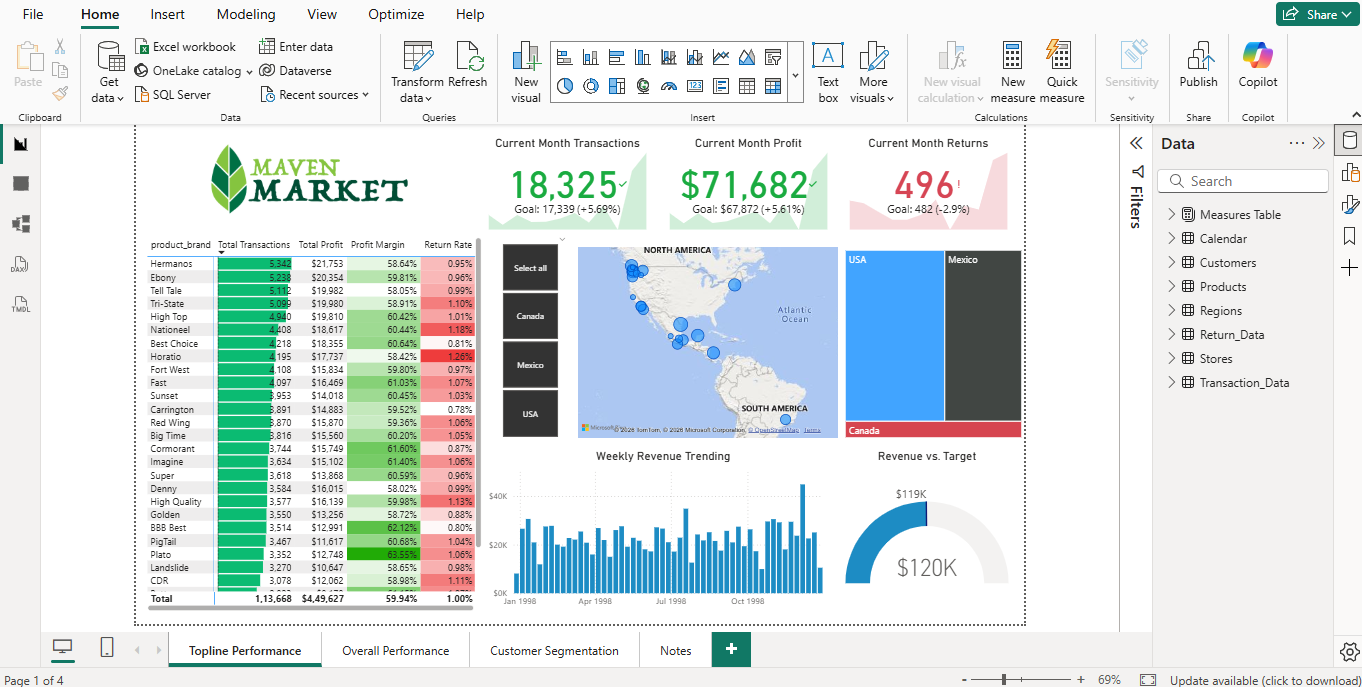

What the dashboard file says about the page in this screenshot:
{"tool":"powerbi","page":{"name":"Topline Performance","canvas":[1280,720],"ordinal":0},"visuals":[{"type":"image","box":[22.5,17.5,450,122.5],"z":0},{"type":"pivotTable","fields":{"Rows":["Products.product_brand"],"Values":["Measures Table.Total Transactions","Measures Table.Total Profit","Measures Table.Profit Margin %","Measures Table.Return Rate"]},"box":[11.6,158,491.3,547.8],"z":1000},{"type":"kpi","title":"Current Month Transactions","fields":{"Indicator":["Measures Table.Total Transactions"],"TrendLine":["Calendar.Start of Month"],"Goal":["Measures Table.Last Month Transactions"]},"box":[502.5,17.5,237.5,140],"z":2000},{"type":"kpi","title":"Current Month Returns","fields":{"TrendLine":["Calendar.Start of Month"],"Indicator":["Measures Table.Total Returns"],"Goal":["Measures Table.Last Month Returns"]},"box":[1022.5,17.5,237.5,140],"z":3000},{"type":"kpi","title":"Current Month Profit","fields":{"TrendLine":["Calendar.Start of Month"],"Indicator":["Measures Table.Total Profit"],"Goal":["Measures Table.Last Month Profit"]},"box":[763.8,17.5,237.5,140],"z":4000},{"type":"map","fields":{"Category":["Stores.store_city"],"Size":["Measures Table.Total Transactions"]},"box":[631.9,172.5,384.1,284.1],"z":5000},{"type":"slicer","fields":{"Values":["Stores.store_country"]},"box":[502.9,158,129,298.6],"z":6000},{"type":"treemap","fields":{"Group":["Stores.store_country","Stores.store_state","Stores.store_city"],"Values":["Measures Table.Total Transactions"]},"box":[1015.9,176.8,263.8,279.7],"z":7000},{"type":"columnChart","title":"Weekly Revenue Trending","fields":{"Y":["Measures Table.Total Revenue"],"Category":["Calendar.Start of Week"]},"box":[502.9,468.1,513,237.7],"z":8000},{"type":"gauge","title":"Revenue vs. Target","fields":{"Y":["Measures Table.Total Revenue"],"TargetValue":["Measures Table.Revenue Target"]},"box":[1015.9,468.1,244.9,218.8],"z":9000}]}

Visuals, with their boxes on the page's 1280x720 design canvas (x1, y1, x2, y2). These are canvas units, not pixel positions in the 1362x687 screenshot, which may show the page scaled, cropped or inside an application window:
image: 22,18,472,140
pivotTable - Products.product_brand x Measures Table.Total Transactions: 12,158,503,706
"Current Month Transactions" kpi: 502,18,740,158
"Current Month Returns" kpi: 1022,18,1260,158
"Current Month Profit" kpi: 764,18,1001,158
map - Stores.store_city x Measures Table.Total Transactions: 632,172,1016,457
slicer - Stores.store_country: 503,158,632,457
treemap - Stores.store_country x Stores.store_state: 1016,177,1280,456
"Weekly Revenue Trending" columnChart: 503,468,1016,706
"Revenue vs. Target" gauge: 1016,468,1261,687
